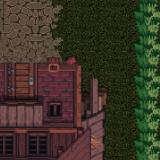Obstacle: (0, 30, 133, 160), (133, 0, 160, 160)
